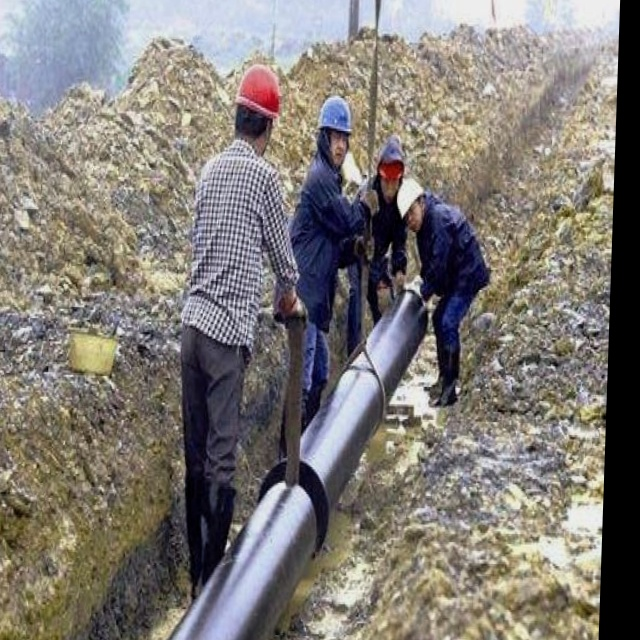Con_Casco: (235, 61, 281, 149), (317, 93, 353, 162)
